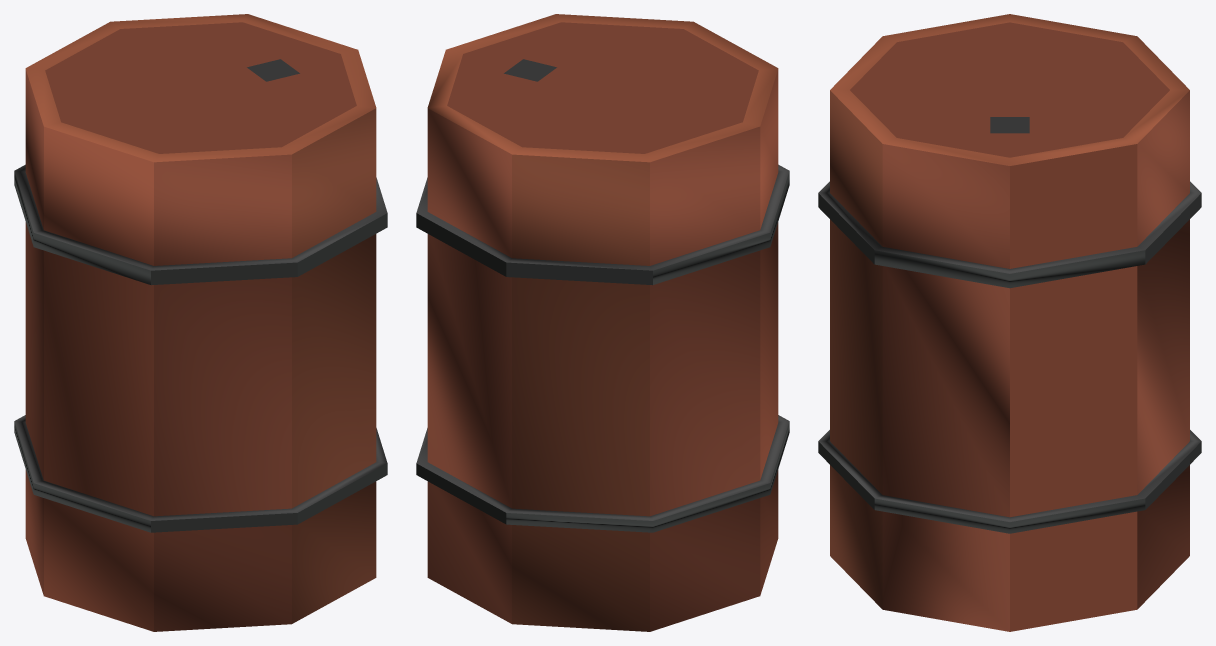
File: apoc_prop_92.glb
3 renders of one model, left to right at view 1: azimuth 30°, elevation 25°; view 2: azimuth 150°, elevation 25°; view 3: azimuth 270°, elevation 25°, orthographic.
Parts seen in each view (by area): view 1: prop_094; view 2: prop_094; view 3: prop_094.
Part boxes in pixels (left/top/right/bottom): prop_094: left=14, top=14, right=387, bottom=631; prop_094: left=416, top=14, right=789, bottom=631; prop_094: left=818, top=14, right=1201, bottom=631.
Bounding box in the file's own units: 0.2514 × 0.3371 × 0.2514.
1 material, 1 textured.
